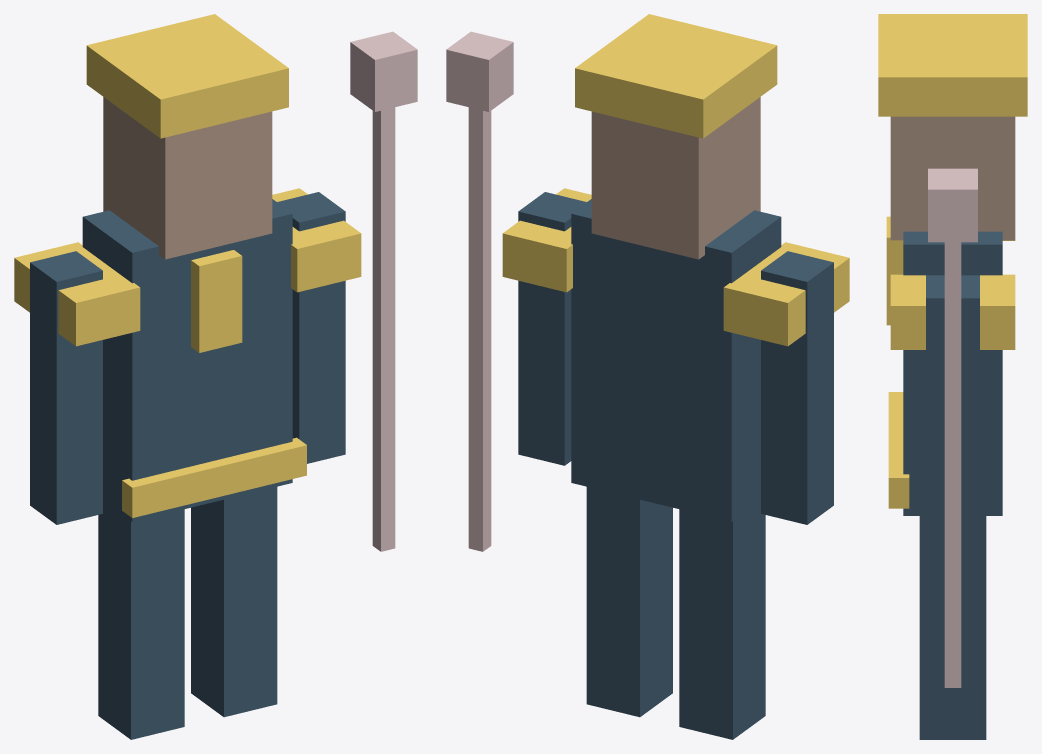
The model's file is 02_talia_echohand_cartographer_of_tactical.glb.
3 views of the same model, side by side, from view 1: azimuth 30°, elevation 25°; view 2: azimuth 150°, elevation 25°; view 3: azimuth 270°, elevation 25° (orthographic).
Parts seen in each view (by area): view 1: Talia Echohand, Cartographer of Tactical; view 2: Talia Echohand, Cartographer of Tactical; view 3: Talia Echohand, Cartographer of Tactical.
Part boxes in pixels (box(x1,y1,x2,y2)): Talia Echohand, Cartographer of Tactical: box(14, 14, 417, 739); Talia Echohand, Cartographer of Tactical: box(446, 14, 849, 739); Talia Echohand, Cartographer of Tactical: box(878, 14, 1027, 739).
Size of the model in its own units: 0.9485 by 1.64 by 0.3364.
